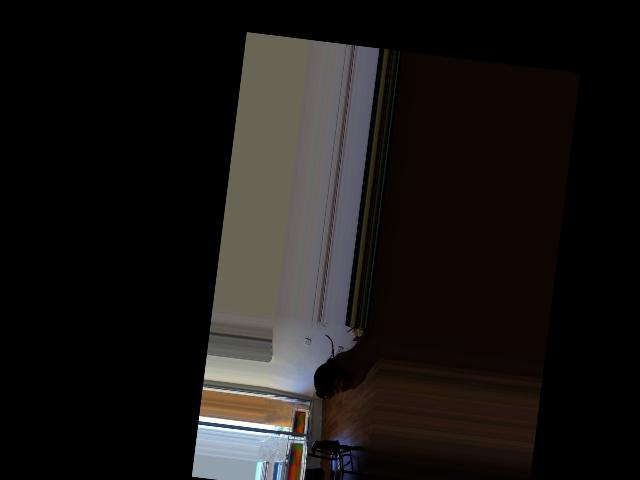beet: (312, 334, 340, 400)
